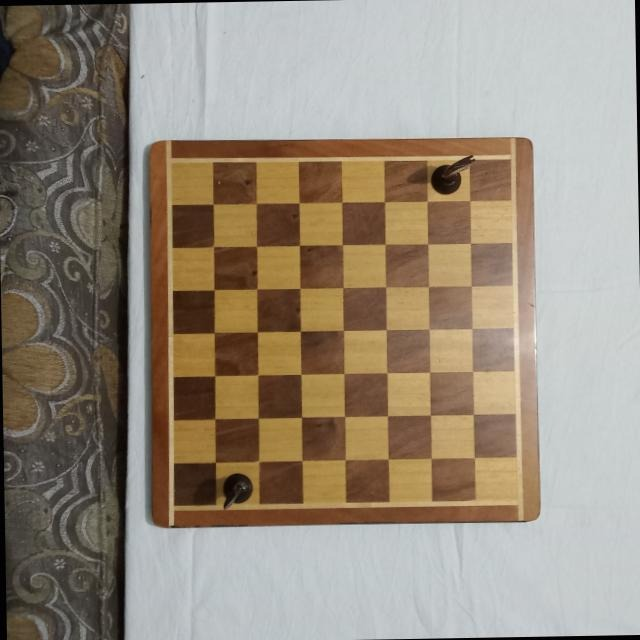black-knight: (427, 152, 477, 193), (218, 470, 252, 509)
